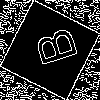B: (25, 25, 79, 71)
